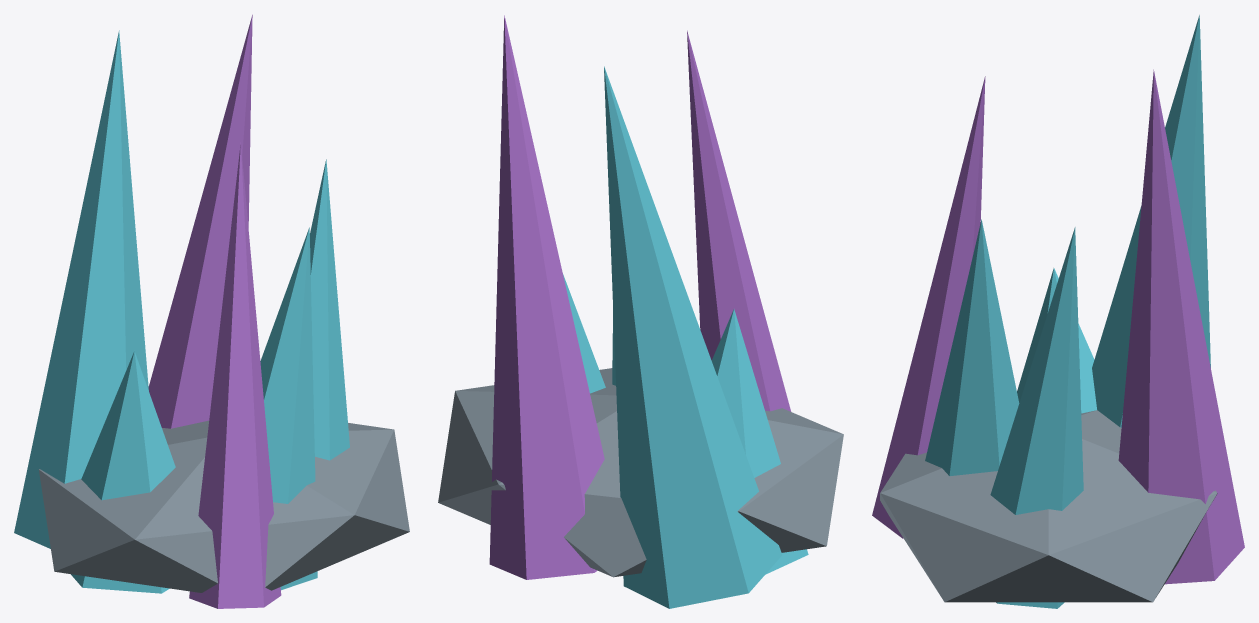
The model's file is Crystal_02_LOD0.fbx.
3 views of the same model, side by side, from view 1: azimuth 30°, elevation 25°; view 2: azimuth 150°, elevation 25°; view 3: azimuth 270°, elevation 25° (orthographic). The views are drawn at different scales.
Parts seen in each view (by area): view 1: Crystal_02_LOD0; view 2: Crystal_02_LOD0; view 3: Crystal_02_LOD0.
Part boxes in pixels (x1=…): Crystal_02_LOD0: x1=14, y1=14, x2=409, y2=608; Crystal_02_LOD0: x1=438, y1=15, x2=843, y2=608; Crystal_02_LOD0: x1=872, y1=15, x2=1244, y2=608.
Bounding box in the file's own units: 161 × 226 × 141.
